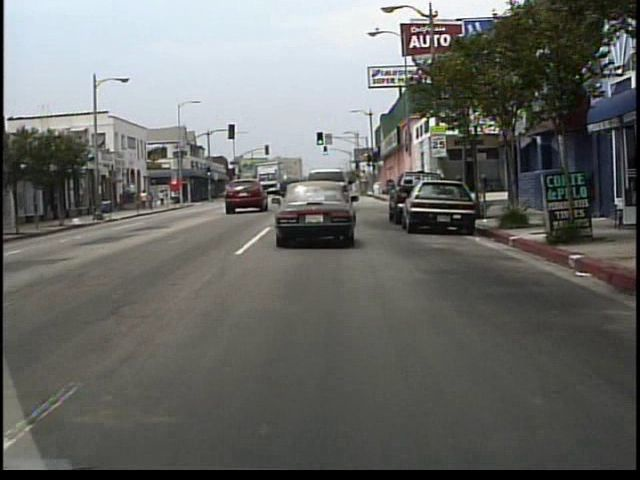person: (140, 189, 149, 211), (159, 188, 167, 208), (149, 190, 155, 210)
